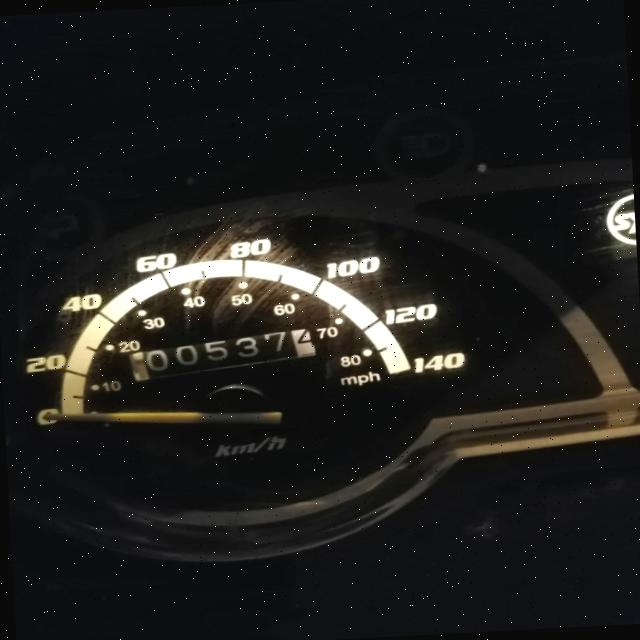odometer: (119, 324, 322, 384)
